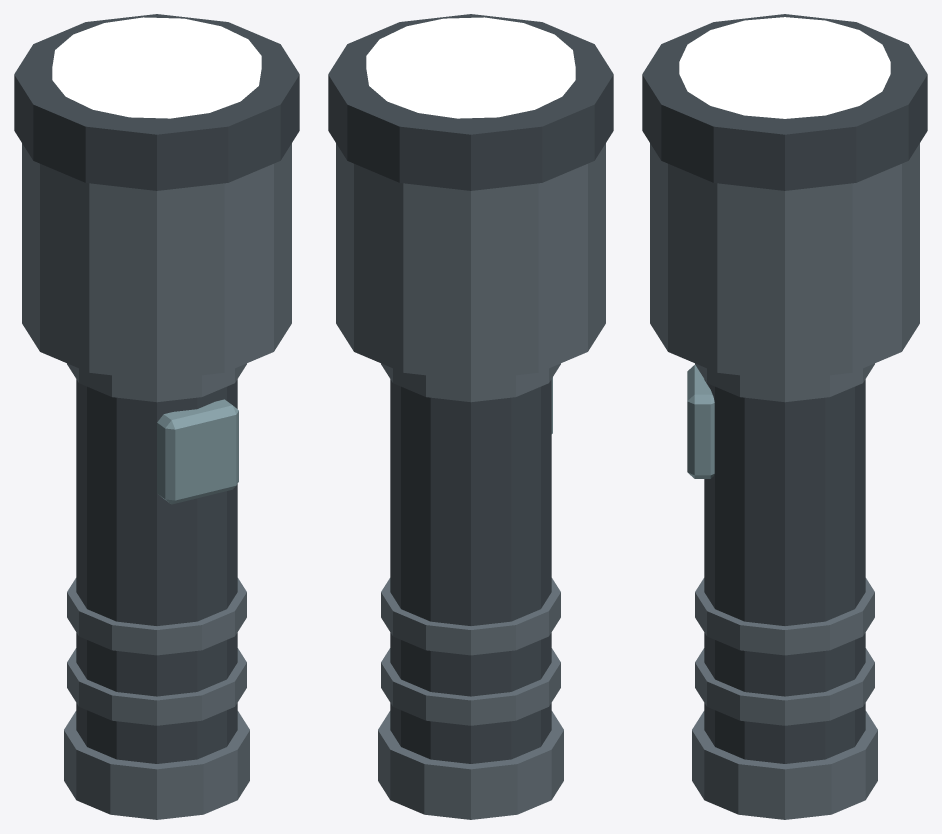
File: Flashlight.glb
The picture shows the model from 3 angles, left to right: view 1: azimuth 30°, elevation 25°; view 2: azimuth 150°, elevation 25°; view 3: azimuth 270°, elevation 25°; orthographic projection.
Parts seen in each view (by area): view 1: StaticMesh, LightGlow; view 2: StaticMesh, LightGlow; view 3: StaticMesh, LightGlow.
Boxes of the visible parts, x1,y1,x2,y2 form: StaticMesh: [14, 14, 299, 819]; LightGlow: [52, 17, 261, 118]; StaticMesh: [328, 14, 613, 819]; LightGlow: [366, 17, 575, 118]; StaticMesh: [642, 14, 927, 819]; LightGlow: [679, 17, 890, 118].
Size of the model in its own units: 0.184 by 0.511 by 0.184.
